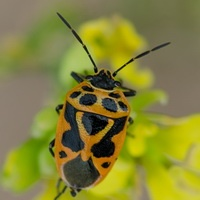insect: (49, 12, 169, 199)
